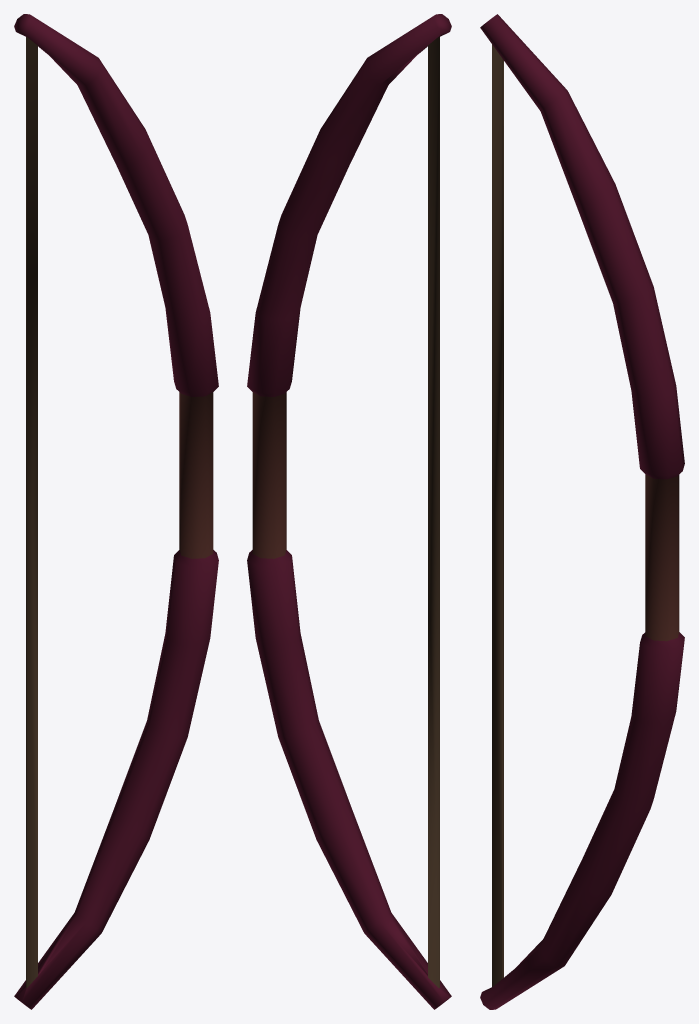
The model's file is PickupWeaponBowStraight.dae.
The picture shows the model from 3 angles, left to right: view 1: azimuth 30°, elevation 25°; view 2: azimuth 150°, elevation 25°; view 3: azimuth 330°, elevation 25°; orthographic projection.
Parts seen in each view (by area): view 1: PickupWeaponBowStraight; view 2: PickupWeaponBowStraight; view 3: PickupWeaponBowStraight.
Part boxes in pixels (<box>): PickupWeaponBowStraight: <box>14,14,218,1009</box>; PickupWeaponBowStraight: <box>247,14,451,1009</box>; PickupWeaponBowStraight: <box>480,14,684,1009</box>.
Bounding box in the file's own units: 0.2697 × 0.0545 × 1.28.
